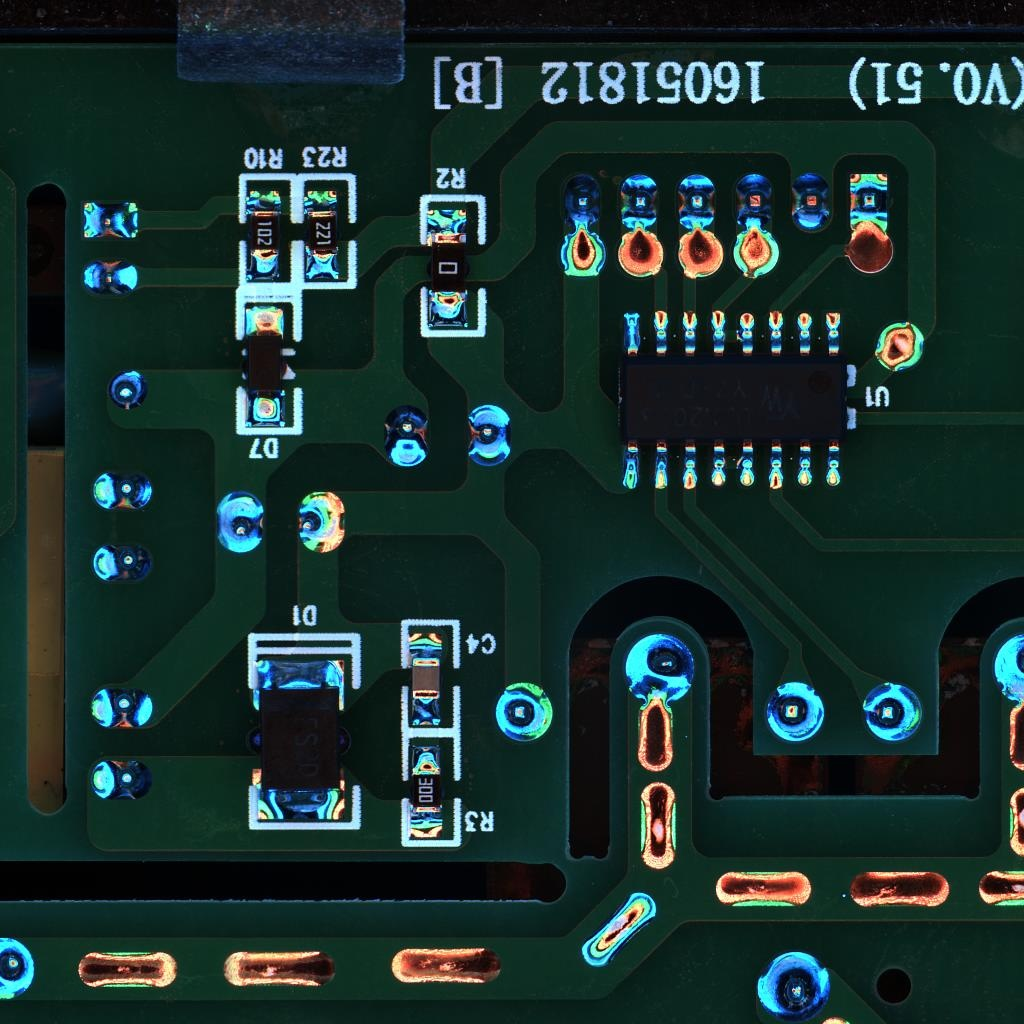spot: (622, 631, 696, 705), (755, 948, 832, 1019), (862, 682, 927, 744), (764, 681, 827, 744), (296, 489, 349, 558), (495, 683, 555, 743), (464, 400, 515, 466), (88, 686, 158, 734), (85, 756, 155, 804), (216, 491, 266, 557), (384, 404, 430, 469), (88, 472, 158, 513), (732, 170, 776, 234), (79, 199, 141, 243), (560, 166, 602, 229), (991, 628, 1024, 708), (846, 170, 888, 232), (1, 931, 36, 1005), (92, 545, 156, 584), (793, 172, 832, 234), (619, 172, 658, 234), (676, 171, 715, 232), (81, 258, 138, 298), (107, 369, 151, 412)
